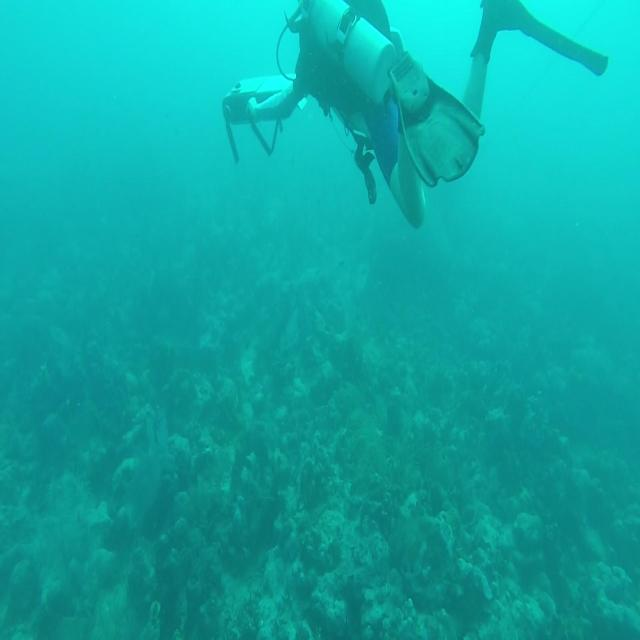human: (222, 0, 608, 230)
